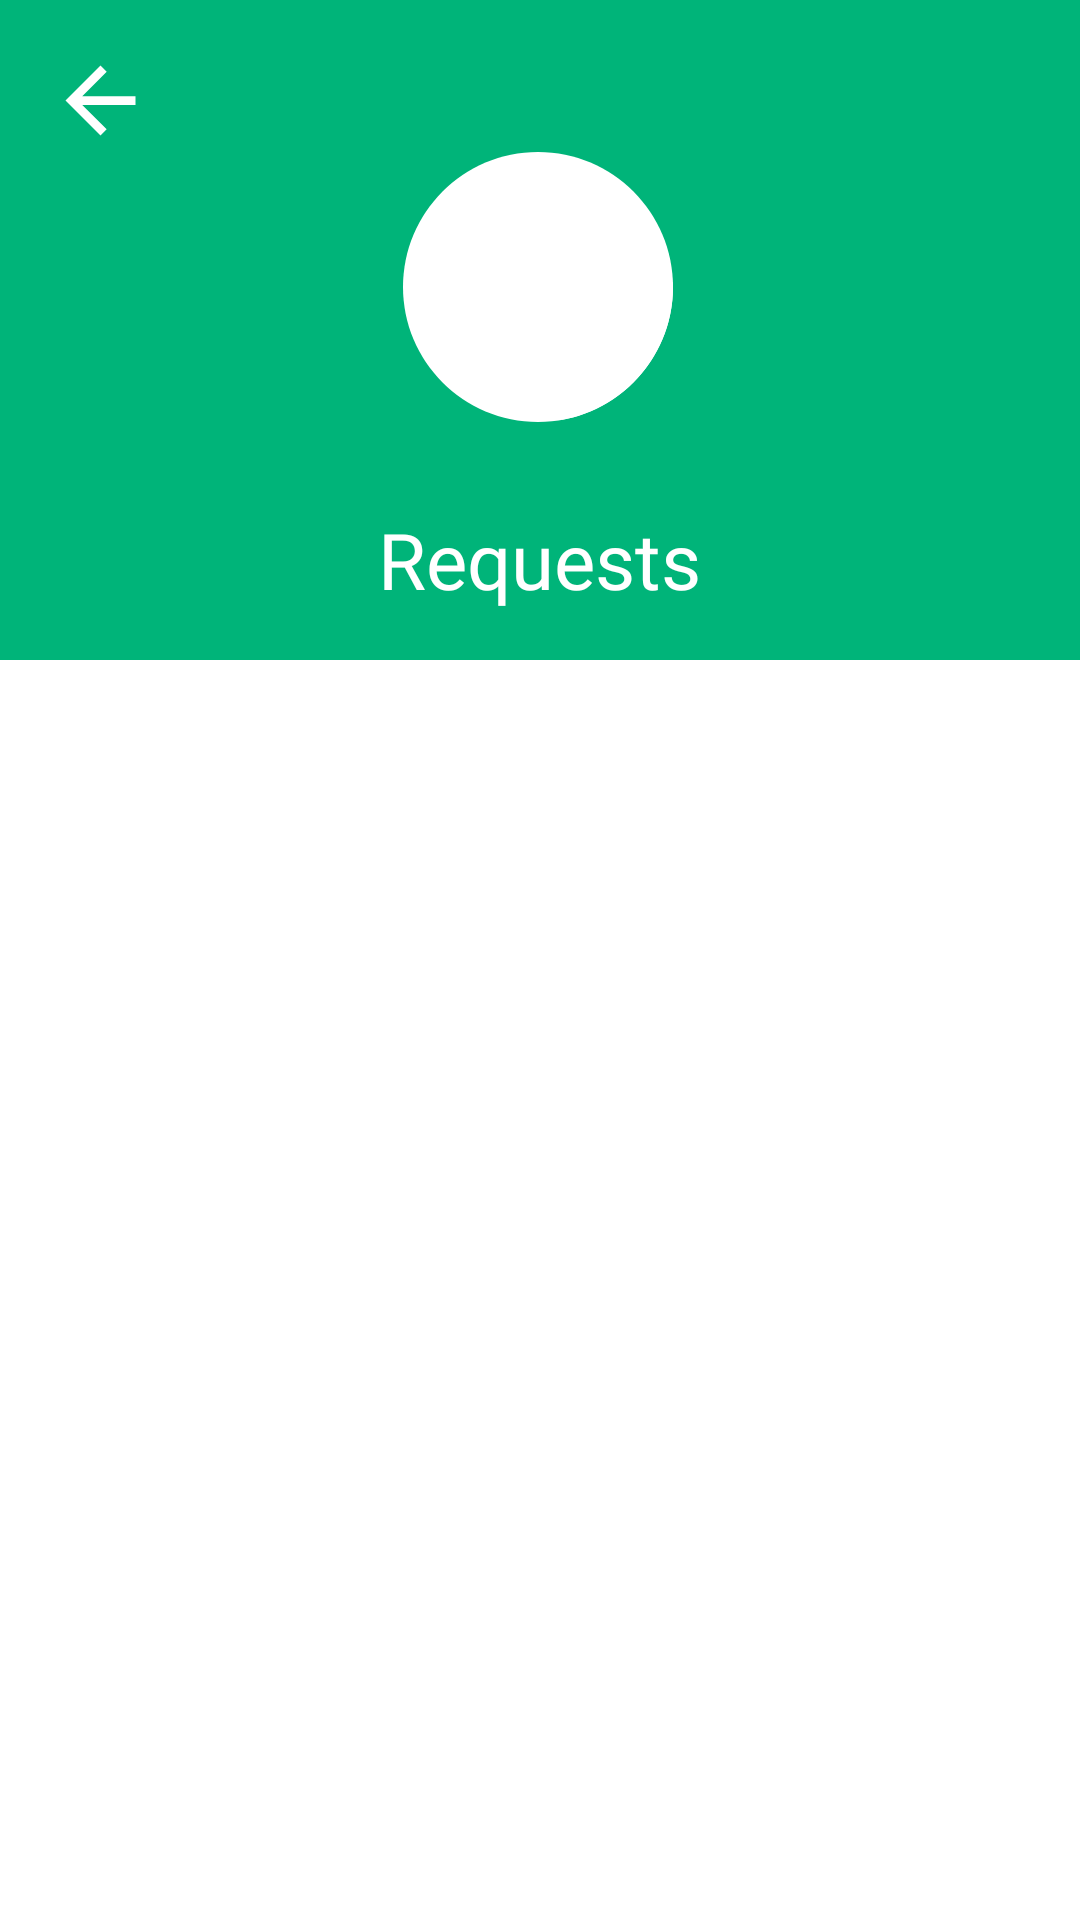

Icon bounding boxes for this 1080×1920 phone screenshot, format (x1, y1, x2, y2):
arrow back: (65, 65, 136, 136)
